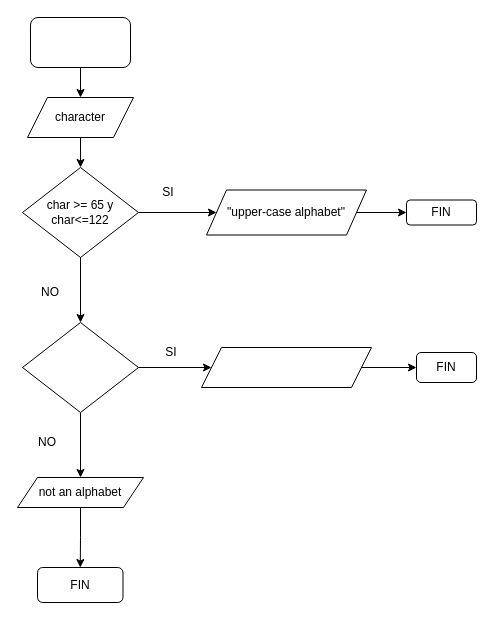
Image size: 494x620. Some labels were removed from this diagram. The shapes that lost their labels are listed below. From the top down, each one's centre as x and y in pixels, then its label:
pixel 80 42: INICIO
pixel 80 367: char >= 97 y char<=122
pixel 286 367: "lower-case alphabet"
